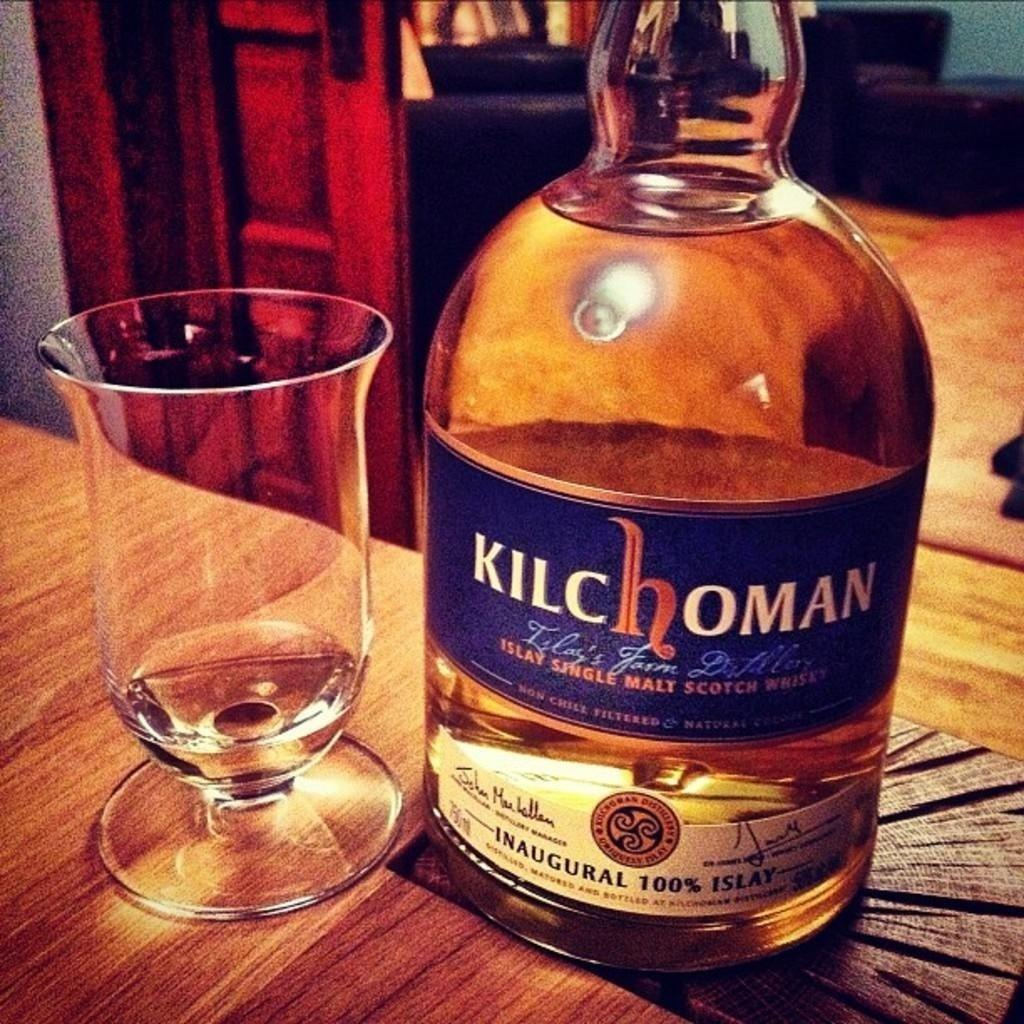bottle-glass: (417, 1, 942, 985)
glass-wine: (32, 284, 413, 923)
